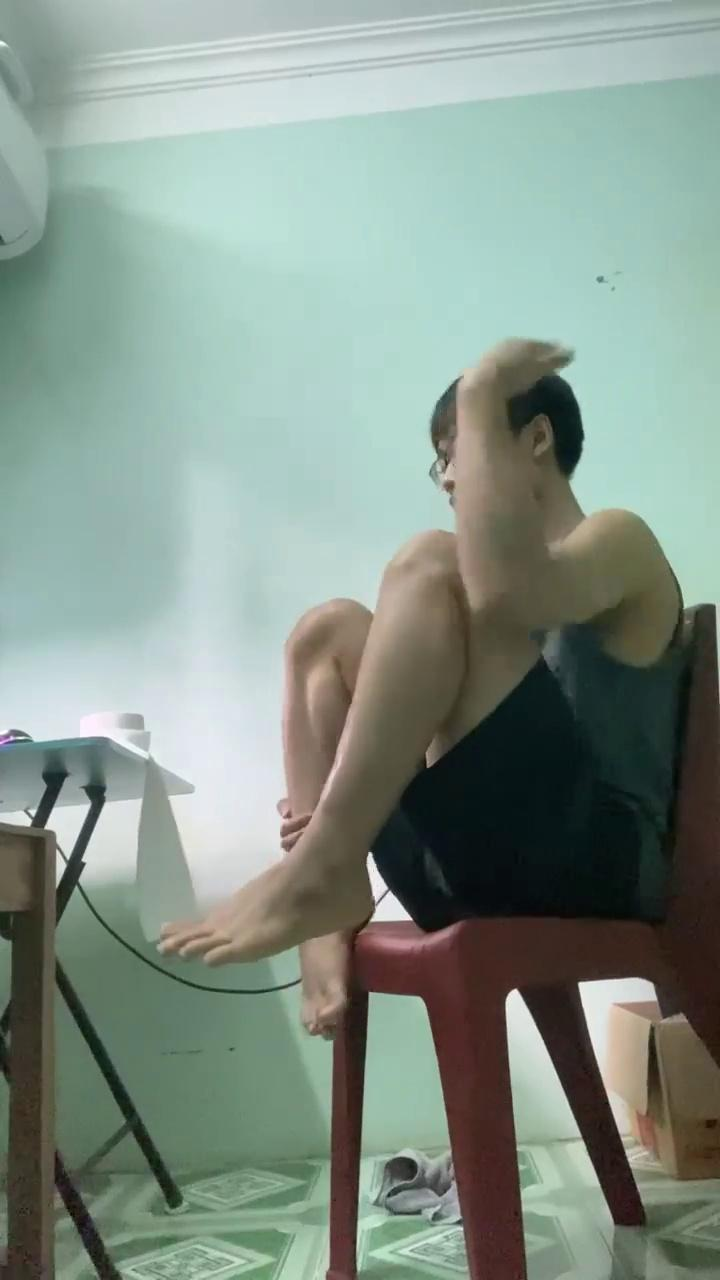BadPosture: (163, 532, 536, 1036)
